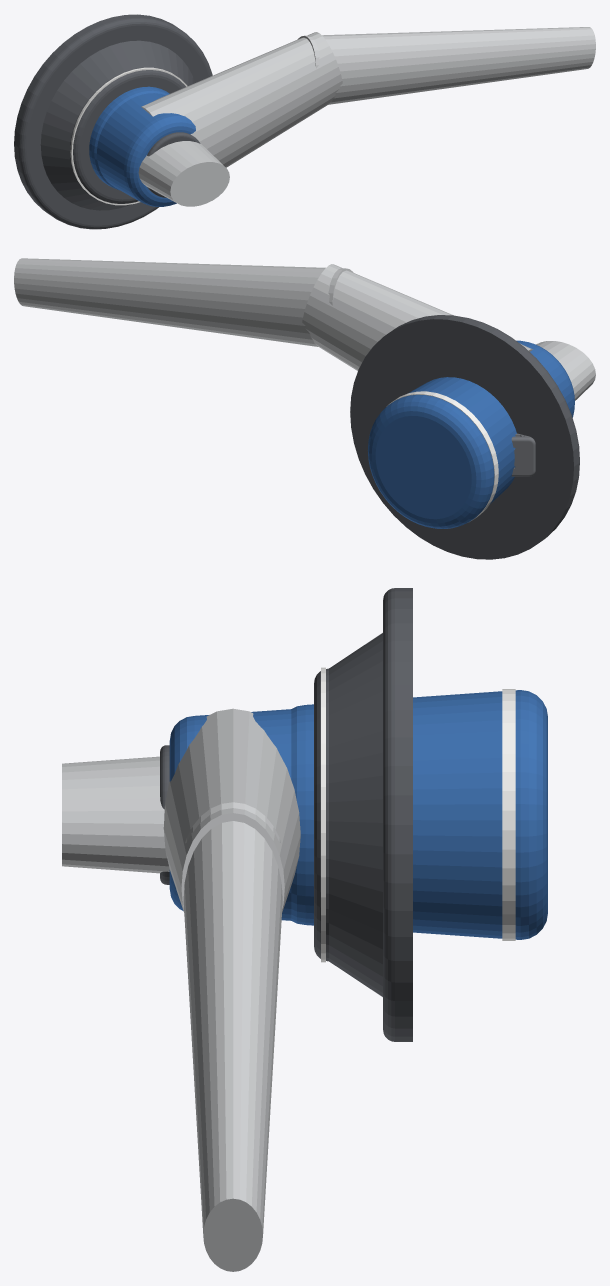
File: arm.glb
3 renders of one model, top to bottom at view 1: azimuth 30°, elevation 25°; view 2: azimuth 150°, elevation 25°; view 3: azimuth 270°, elevation 25°, orthographic. The views are drawn at different scales.
Visible parts, largest first — view 1: b3, b1, b2; view 2: b3, b1, b2, b9; view 3: b3, b1, b2.
Boxes of the visible parts, x1,y1,x2,y2 form: b3: (89,27,595,190); b1: (14,14,212,229); b2: (97,93,229,206); b3: (14,258,532,528); b1: (350,315,579,559); b2: (516,340,595,417); b9: (511,433,535,476); b3: (163,689,547,1271); b1: (314,588,412,1041); b2: (62,709,291,920).
Bounding box in the file's own units: 0.6868 × 0.2541 × 0.2718.
